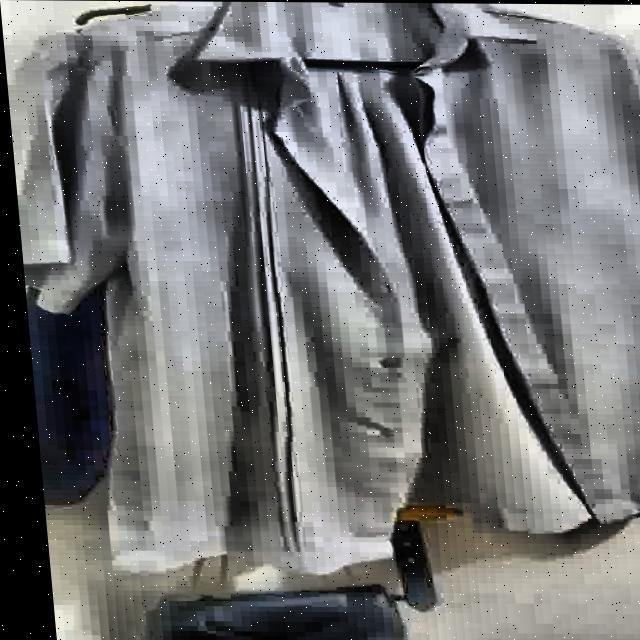clothes: (0, 0, 640, 583)
